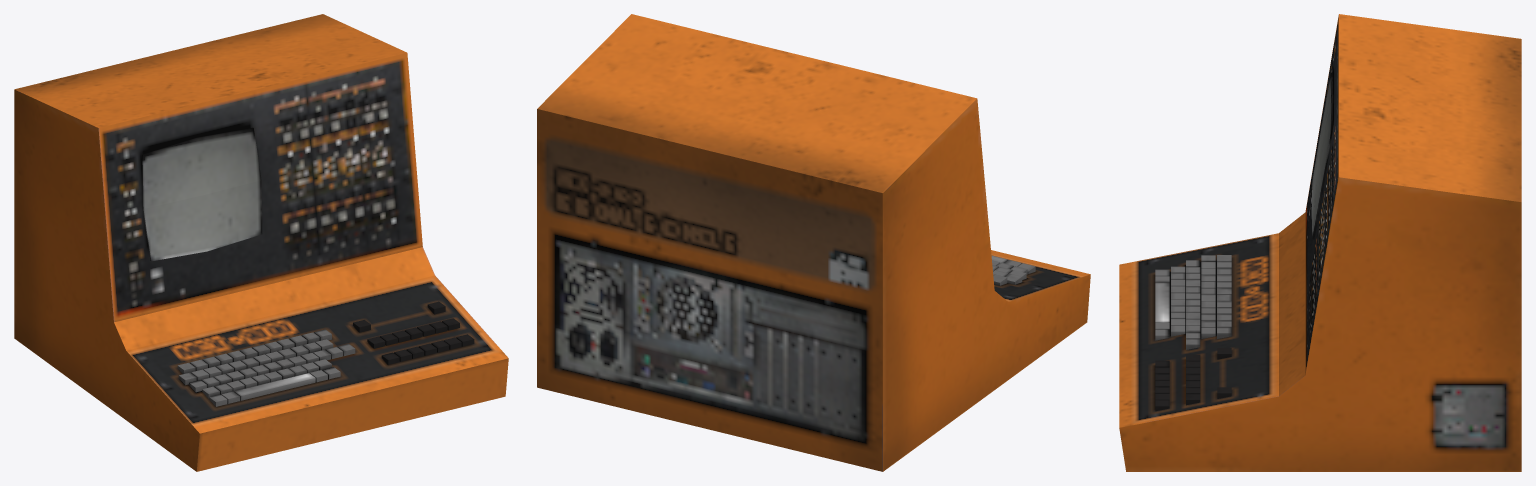
Rendered from mcscomputer_v28.fbx.
3 renders of one model, left to right at view 1: azimuth 30°, elevation 25°; view 2: azimuth 150°, elevation 25°; view 3: azimuth 270°, elevation 25°, orthographic. The views are drawn at different scales.
Visible parts, largest first — view 1: Cube, Cube.001, Cube.035; view 2: Cube; view 3: Cube, Cube.001, Cube.035.
Boxes of the visible parts, box(x1,y1,x2,y2) form: Cube: box(14, 14, 508, 471); Cube.001: box(142, 127, 262, 261); Cube.035: box(234, 373, 315, 400); Cube: box(537, 14, 1090, 471); Cube: box(1119, 14, 1521, 471); Cube.001: box(1311, 72, 1333, 239); Cube.035: box(1155, 282, 1169, 322).
Bounding box in the file's own units: 407 × 343 × 424.
